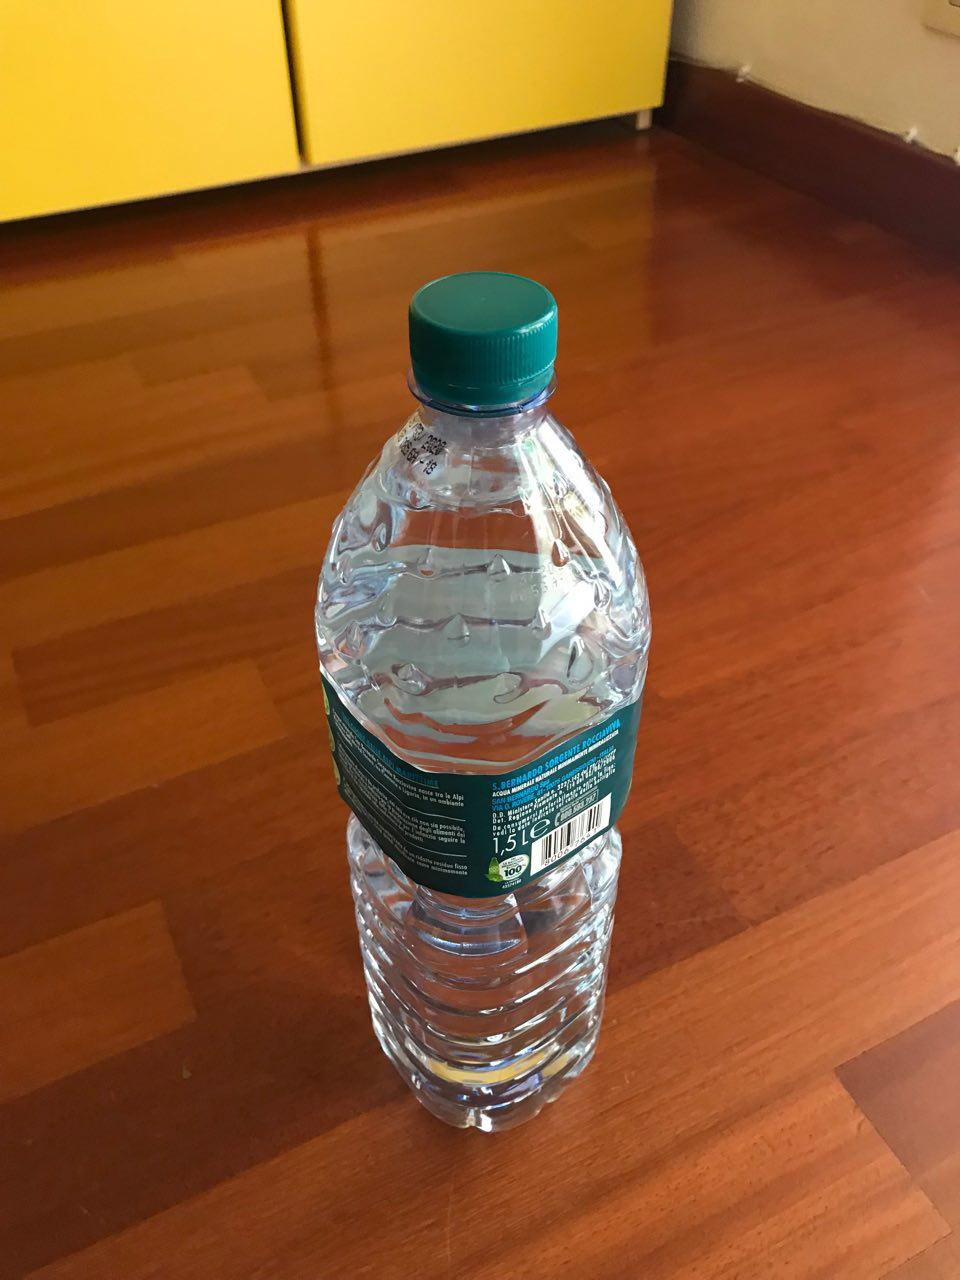san_bernardo: (310, 270, 653, 1137)
